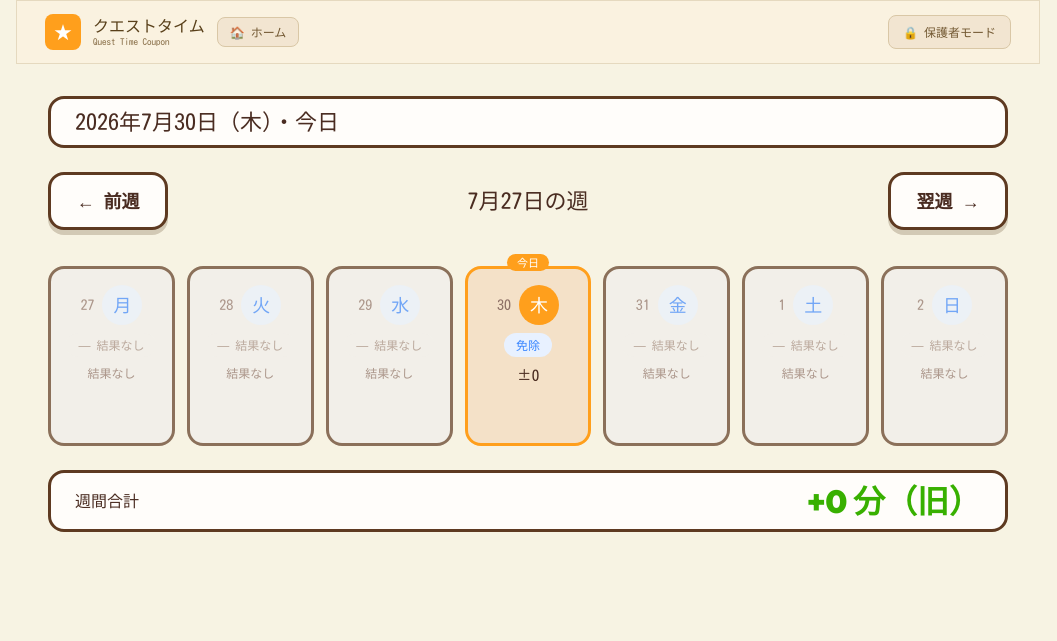
Test: ResultsPage week UI (#17) › 免除日は閲覧でき、確認した CTA を出さない
Click the button with test id "results-day-2026-07-30" at {"x": 528, "y": 356}, box [465,266,592,446]
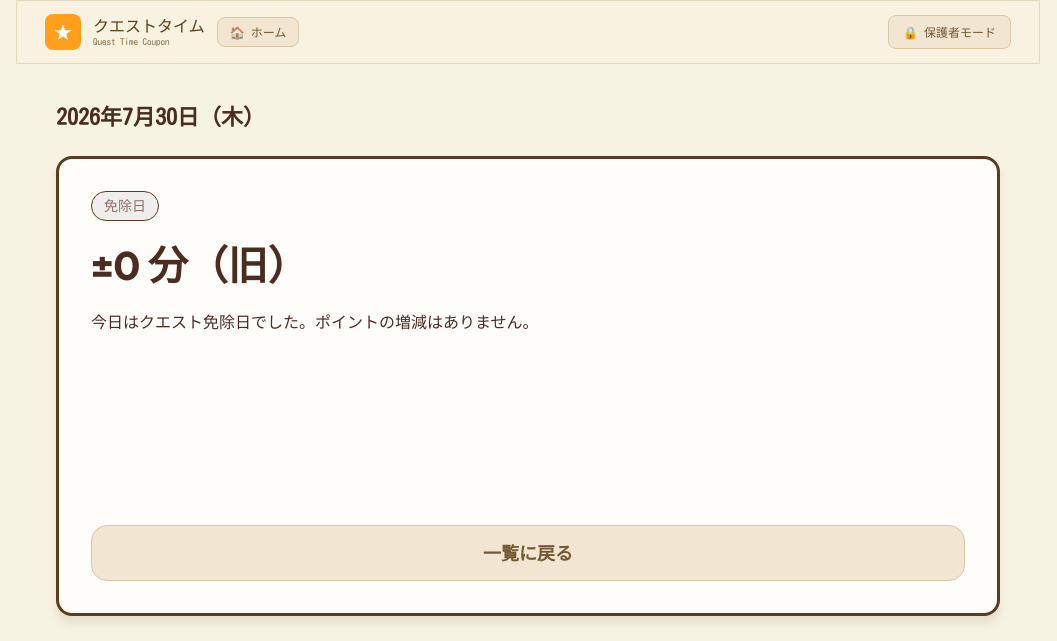
Expected: the text with test id "reason-code-message" shows "今日はクエスト免除日でした", [91,314,538,330]
Expected: the button with test id "results-back-to-week" is shown, [91,524,965,580]
